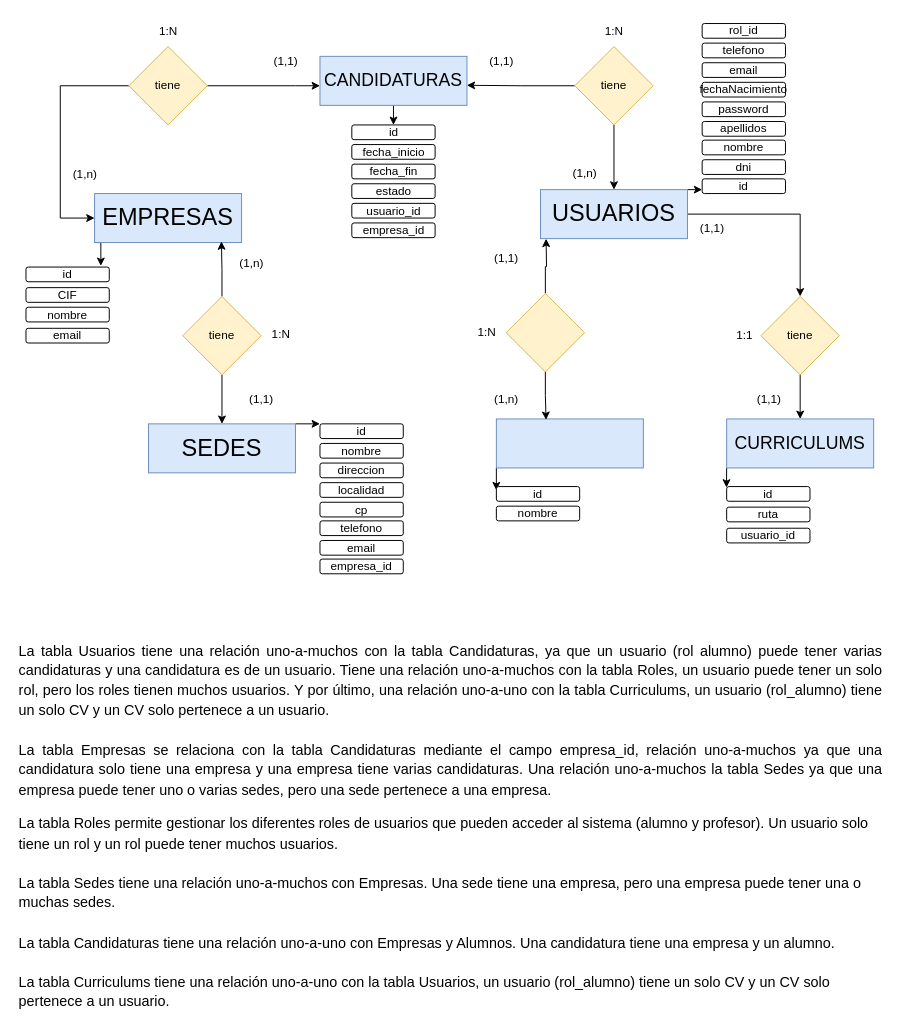
Some shapes in this 899 by 1029 pixel diagram are drawn without their labels. The shapes that lost their labels are listed below. From the top down, each one's box as (x1, y1, x2, y2) in pixels, then its label:
(505, 293, 585, 372): es
(495, 418, 643, 468): ROLES
